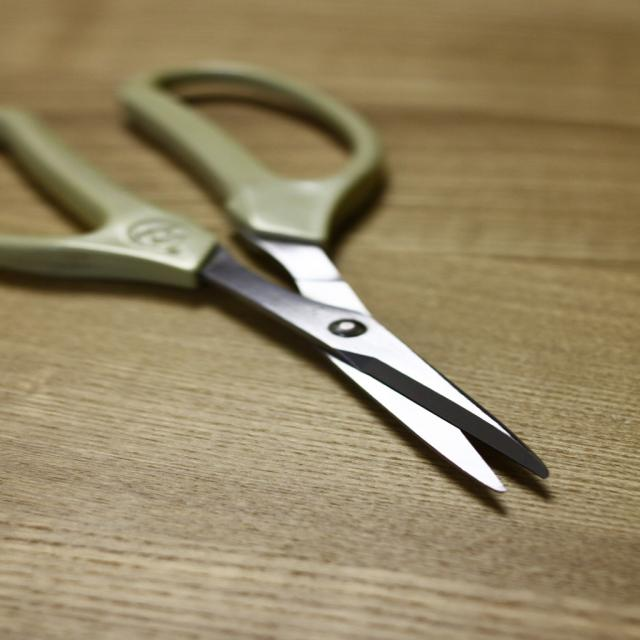scissors: (0, 61, 550, 493)
